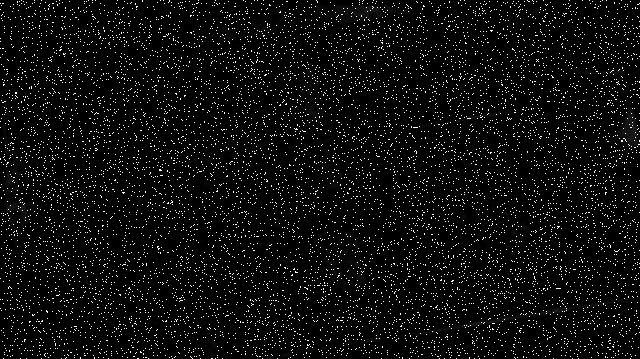pot: (6, 73, 158, 211), (519, 8, 632, 138), (17, 256, 115, 359), (616, 148, 640, 299)
